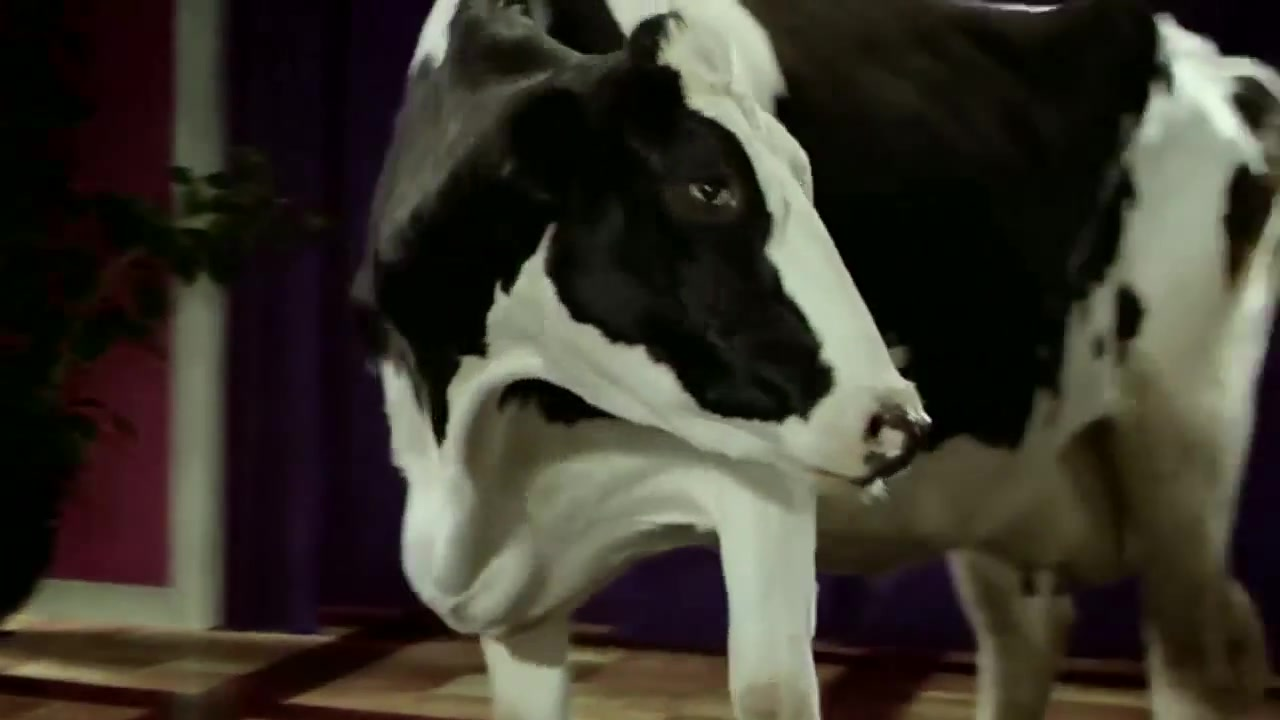cow: (352, 3, 1280, 720)
